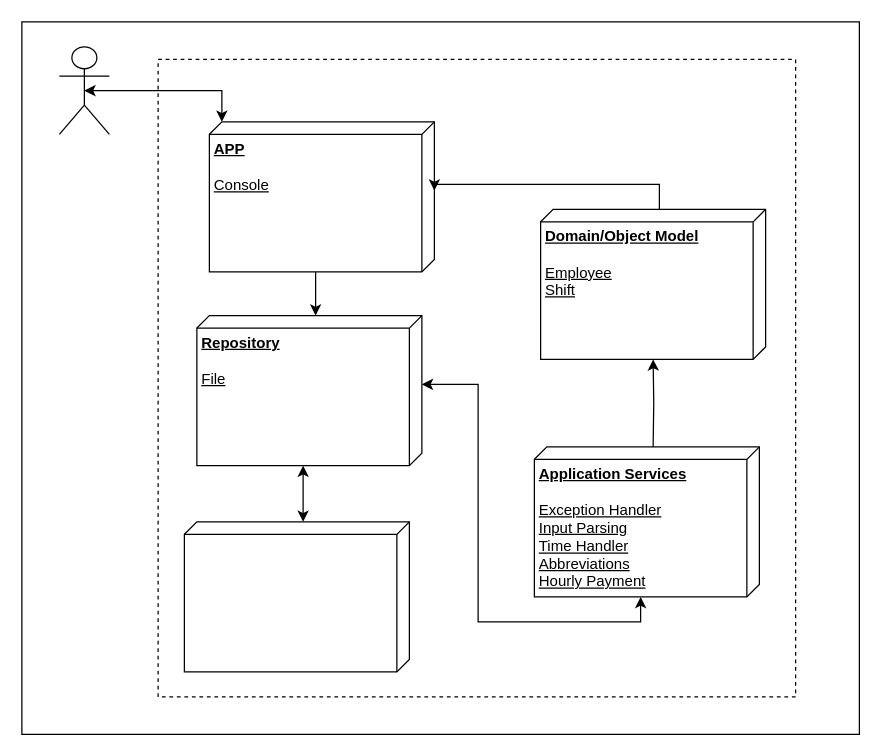
Image size: 881x756. Some labels were removed from this diagram. The shapes that lost their labels are listed below. From the top down, each one's centre as x and y in pixels, then its label:
At pixel 83 90: "Actor".
At pixel 296 596: "Data Input File Output File".
